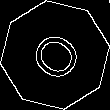O_SE: (22, 23, 88, 87)
